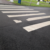zebra: (1, 4, 50, 31)
